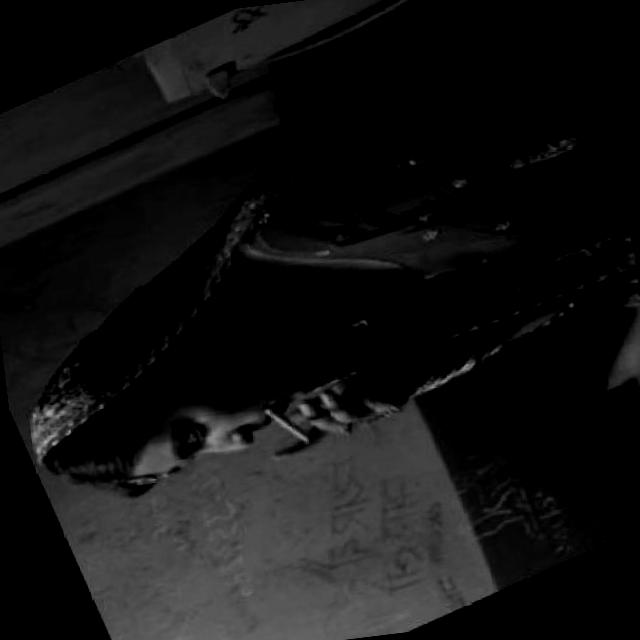cigarette: (260, 362, 419, 456)
